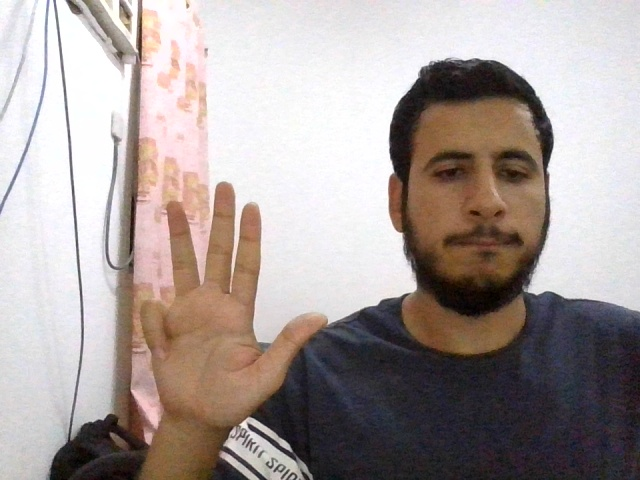Four: (137, 182, 328, 434)
